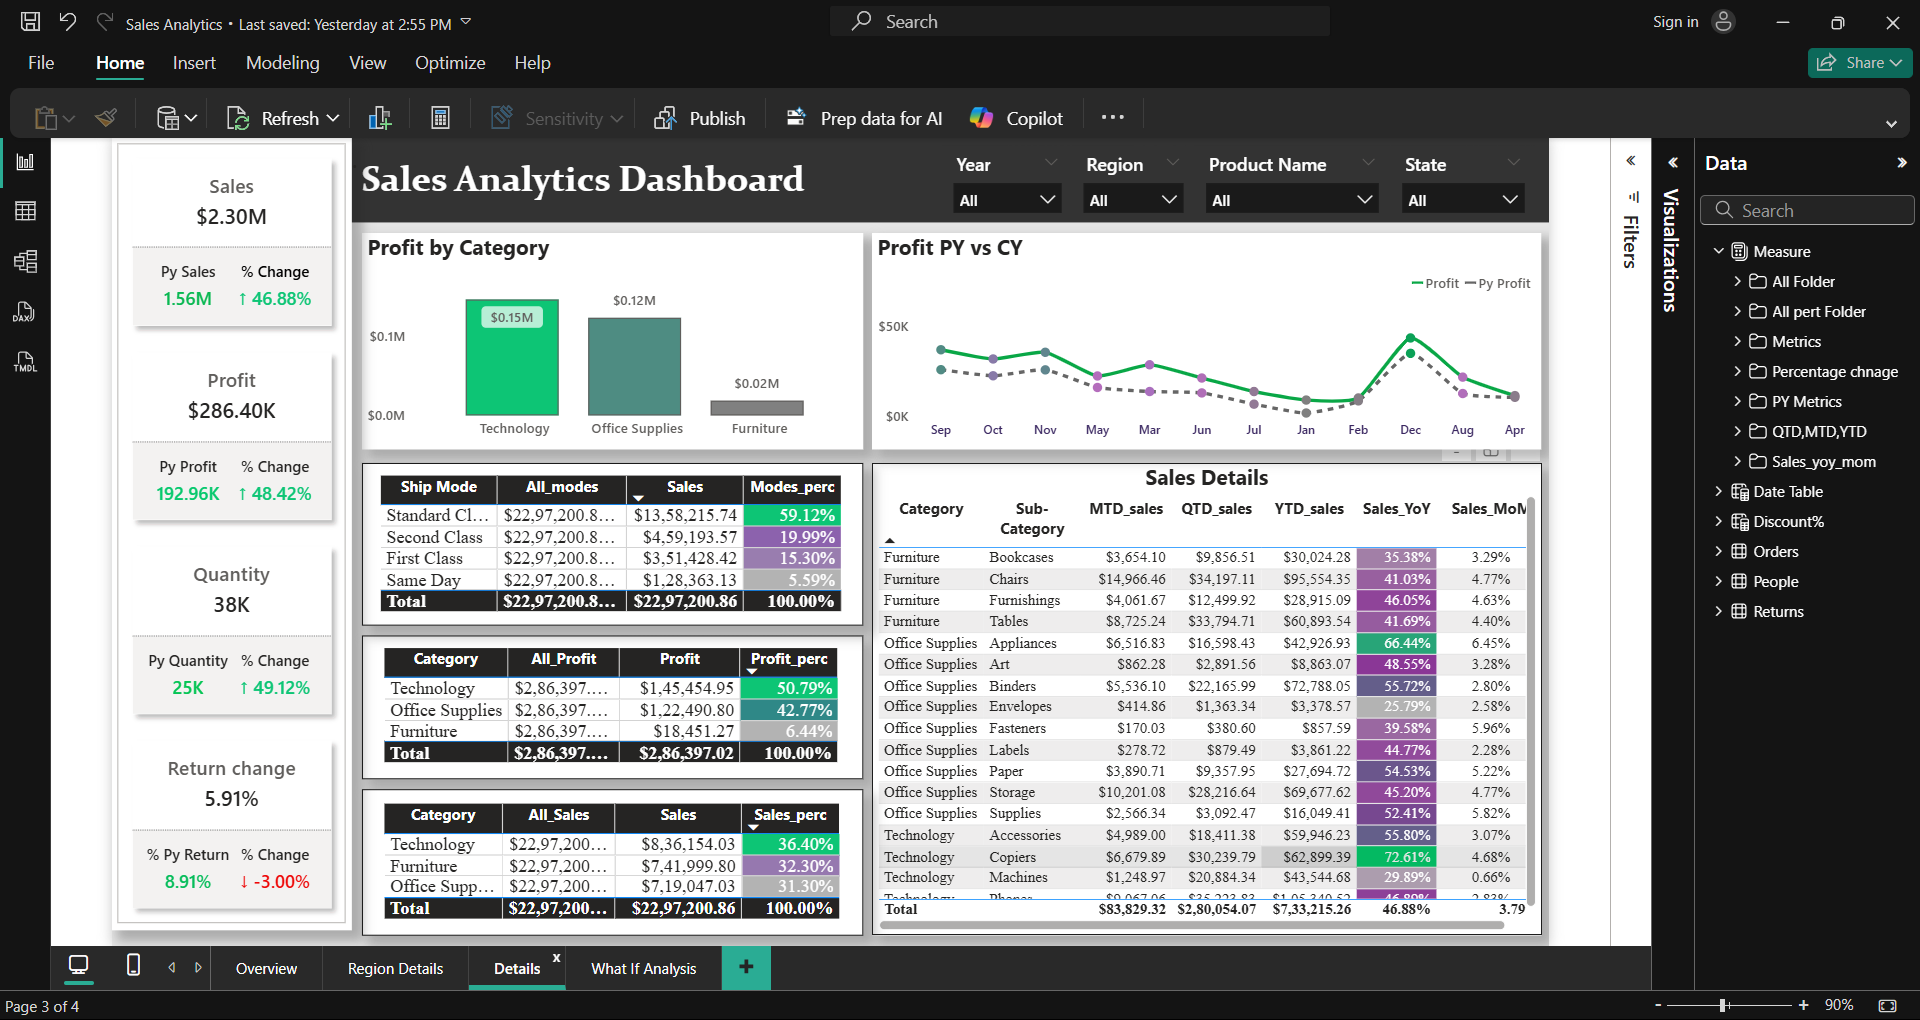

This screenshot's page, from the dashboard's own definition file:
{"tool":"powerbi","page":{"name":"Details","canvas":[1280,720],"ordinal":2},"visuals":[{"type":"tableEx","title":"Category Segmentation","fields":{"Values":["Orders.Category","Measure.All_cate_profit","Measure.Profit","Measure.profit_perc"]},"box":[222.1,442.9,446.6,127.6],"z":1000},{"type":"textbox","box":[198.8,0,1081,74.8],"z":2000},{"type":"lineClusteredColumnComboChart","title":"Profit by Category","fields":{"Y":["Measure.Profit"],"Category":["Orders.Category"]},"box":[222.1,84.7,446.6,192.6],"z":3000},{"type":"tableEx","title":"Sales Details","fields":{"Values":["Orders.Category","Orders.Sub-Category","Measure.mtd","Measure.qtd","Measure.ytd","Measure.yoy_growth","Measure.mom_growth"]},"box":[677.3,289.6,596.3,420.9],"z":4000},{"type":"slicer","fields":{"Values":["Orders.State"]},"box":[1138.7,6.1,128.8,60.1],"z":5000},{"type":"slicer","fields":{"Values":["Orders.Product Name"]},"box":[964.4,6.1,174.2,60.1],"z":6000},{"type":"slicer","fields":{"Values":["Orders.Region"]},"box":[855.2,6.1,109.2,60.1],"z":7000},{"type":"tableEx","title":"Category Segmentation","fields":{"Values":["Orders.Category","Measure.All_category","Measure.Sales","Measure.Sales_cat_pert"]},"box":[222.1,580.4,446.6,130.1],"z":8000},{"type":"lineChart","title":"Profit PY vs CY","fields":{"Category":["Date Table.Month Name"],"Y":["Measure.Profit","Measure.Py Profit"]},"box":[677.3,84.7,596.3,192.6],"z":9000},{"type":"slicer","fields":{"Values":["Date Table.Year"]},"box":[738.7,6.1,116.6,60.1],"z":10000},{"type":"tableEx","title":"Category Segmentation","fields":{"Values":["Orders.Ship Mode","Measure.All_shipmodes","Measure.Sales","Measure.Shipmode_perc"]},"box":[222.1,289.6,446.6,144.8],"z":11000},{"type":"cardVisual","fields":{"Data":["Measure.Sales","Measure.Profit","Measure.Quantity","Measure.% Return change"]},"box":[0,0,213.5,705.5],"z":11001}]}

Visuals, with their boxes on the page's 1280x720 design canvas (x1, y1, x2, y2). These are canvas units, not pixel positions in the 1920x1020 screenshot, which may show the page scaled, cropped or inside an application window:
"Category Segmentation" tableEx: (x1=222, y1=443, x2=669, y2=570)
textbox: (x1=199, y1=0, x2=1280, y2=75)
"Profit by Category" lineClusteredColumnComboChart: (x1=222, y1=85, x2=669, y2=277)
"Sales Details" tableEx: (x1=677, y1=290, x2=1274, y2=710)
slicer - Orders.State: (x1=1139, y1=6, x2=1268, y2=66)
slicer - Orders.Product Name: (x1=964, y1=6, x2=1139, y2=66)
slicer - Orders.Region: (x1=855, y1=6, x2=964, y2=66)
"Category Segmentation" tableEx: (x1=222, y1=580, x2=669, y2=710)
"Profit PY vs CY" lineChart: (x1=677, y1=85, x2=1274, y2=277)
slicer - Date Table.Year: (x1=739, y1=6, x2=855, y2=66)
"Category Segmentation" tableEx: (x1=222, y1=290, x2=669, y2=434)
cardVisual - Measure.Sales x Measure.Profit: (x1=0, y1=0, x2=214, y2=706)
